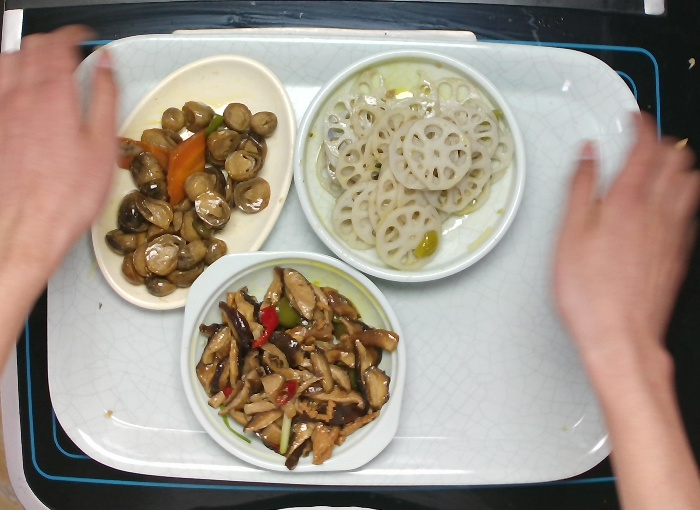JYsf-Shuang_Er_Pan: (178, 250, 408, 474)
JYsf-Tuo_Yuan_Wan: (86, 54, 297, 313)
JYsf-Xiao_Yuan_Pan: (291, 47, 526, 287)
